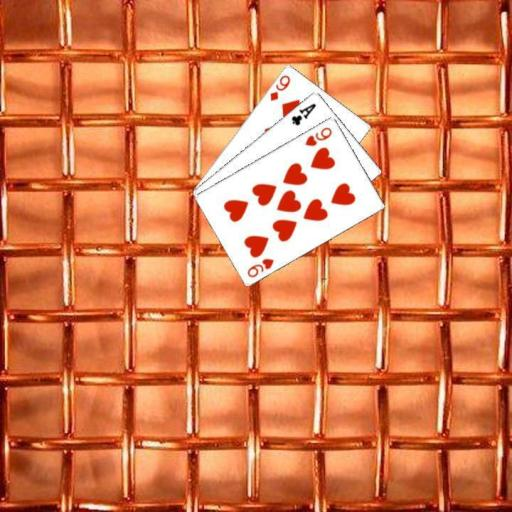card-corner: (266, 71, 292, 103), (288, 100, 318, 126), (244, 254, 275, 278), (302, 124, 334, 147)
